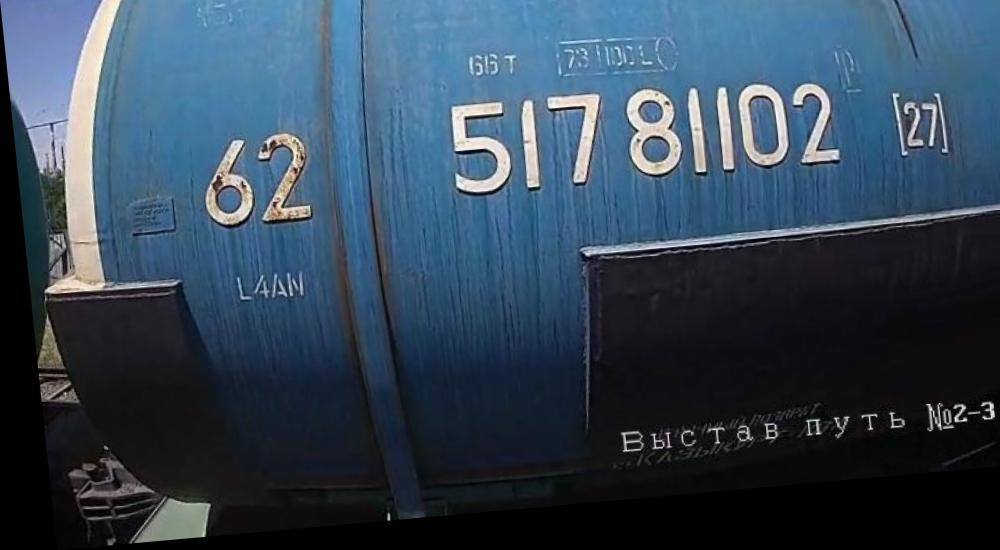Wagon-number: (438, 78, 844, 214)
